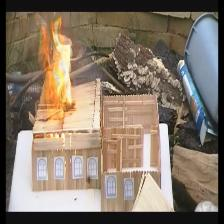fire: (35, 15, 75, 110)
